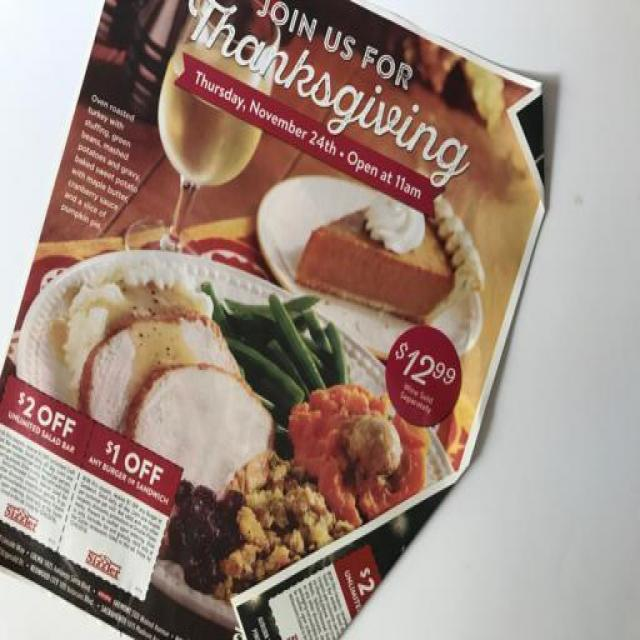paper: (2, 4, 549, 640)
